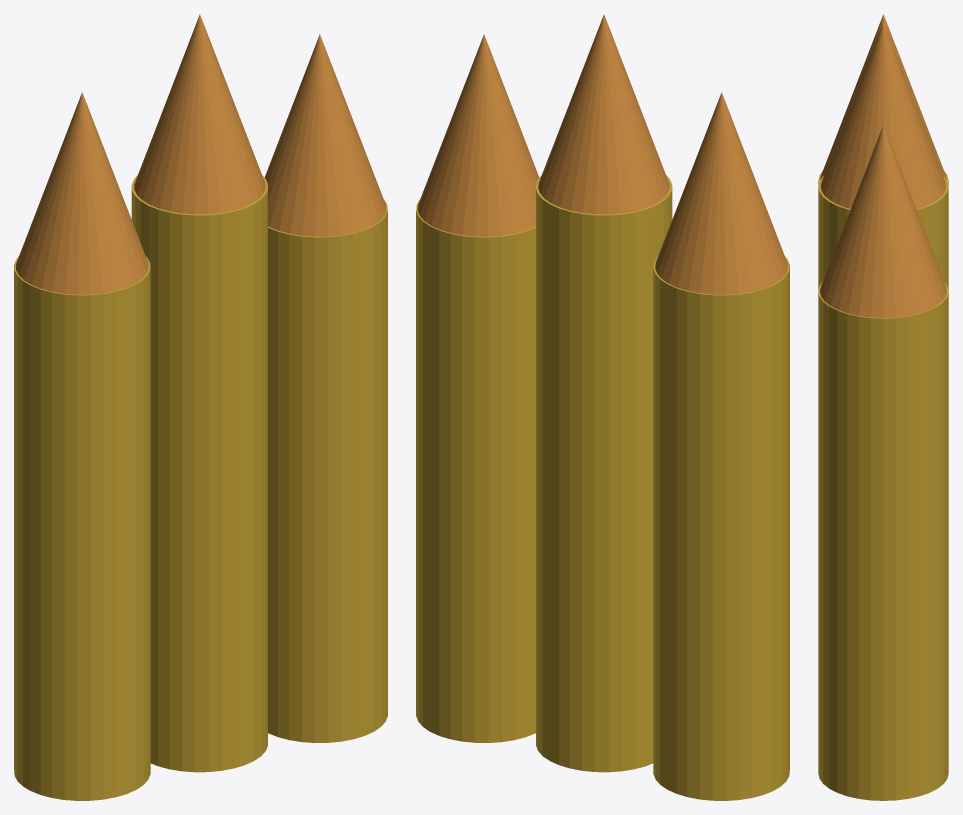
The model's file is firerate power.fbx.
3 renders of one model, left to right at view 1: azimuth 30°, elevation 25°; view 2: azimuth 150°, elevation 25°; view 3: azimuth 270°, elevation 25°, orthographic. The views are drawn at different scales.
Parts seen in each view (by area): view 1: Cylinder; view 2: Cylinder; view 3: Cylinder.
Boxes of the visible parts, box(x1,y1,x2,y2) form: Cylinder: box(14, 14, 387, 800); Cylinder: box(416, 14, 789, 800); Cylinder: box(818, 14, 948, 800).
Bounding box in the file's own units: 223 × 438 × 74.32.
